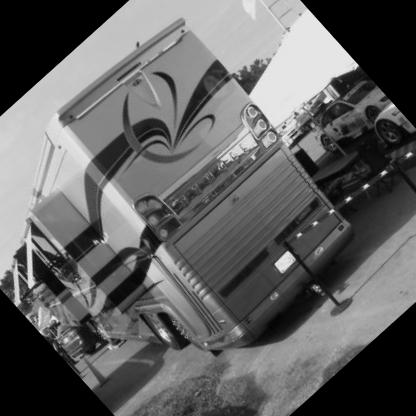bus: (1, 11, 395, 416)
